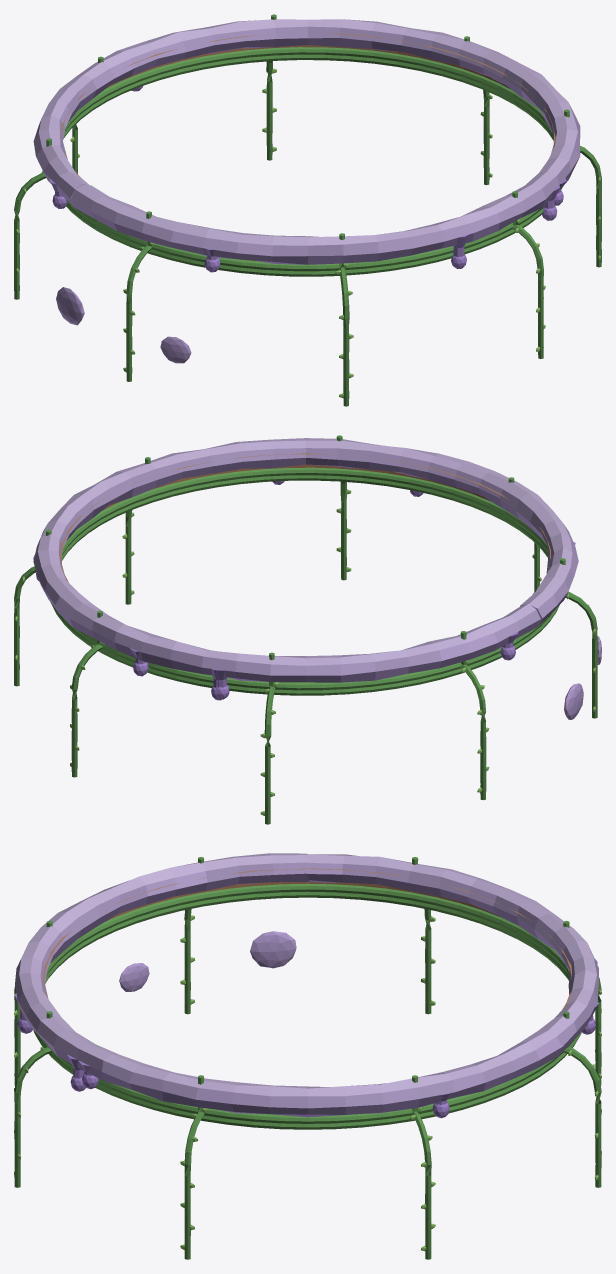
The model's file is goo_jar_trim_2_mid@mushroom.fbx.
3 views of the same model, one above another, from view 1: azimuth 30°, elevation 25°; view 2: azimuth 150°, elevation 25°; view 3: azimuth 270°, elevation 25° (orthographic). The views are drawn at different scales.
Parts seen in each view (by area): view 1: goo_jar_trim_2_mid; view 2: goo_jar_trim_2_mid; view 3: goo_jar_trim_2_mid.
Boxes of the visible parts, box(x1,y1,x2,y2) form: goo_jar_trim_2_mid: box(14, 14, 601, 406); goo_jar_trim_2_mid: box(14, 435, 601, 824); goo_jar_trim_2_mid: box(14, 853, 601, 1259).
Bounding box in the file's own units: 53.06 × 16.05 × 50.84.
